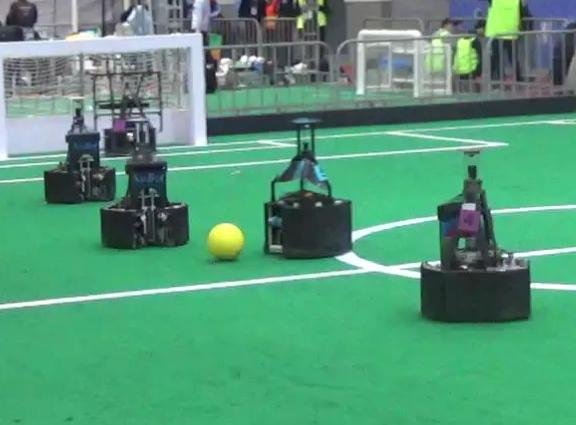robot: (417, 145, 534, 324), (259, 114, 355, 258), (100, 119, 191, 249), (42, 96, 118, 204)
